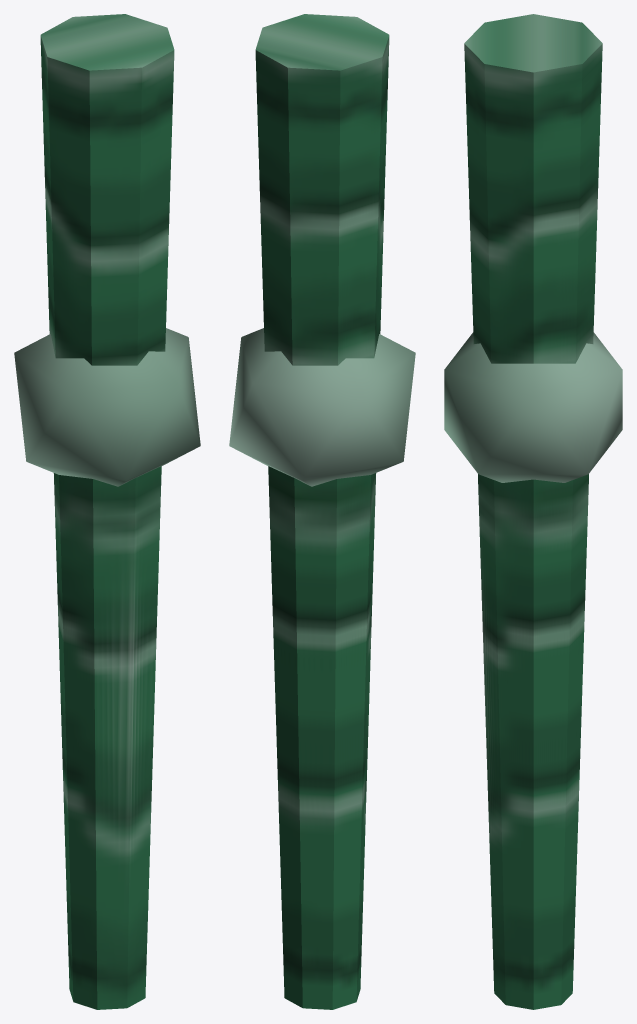
The model's file is peg.fbx.
3 views of the same model, side by side, from view 1: azimuth 30°, elevation 25°; view 2: azimuth 150°, elevation 25°; view 3: azimuth 270°, elevation 25° (orthographic).
Visible parts, largest first — view 1: Cylinder; view 2: Cylinder; view 3: Cylinder.
Part boxes in pixels (<box>): Cylinder: <box>14,14,200,1009</box>; Cylinder: <box>229,14,415,1009</box>; Cylinder: <box>444,14,622,1009</box>.
Bounding box in the file's own units: 18.69 × 105 × 17.78.
